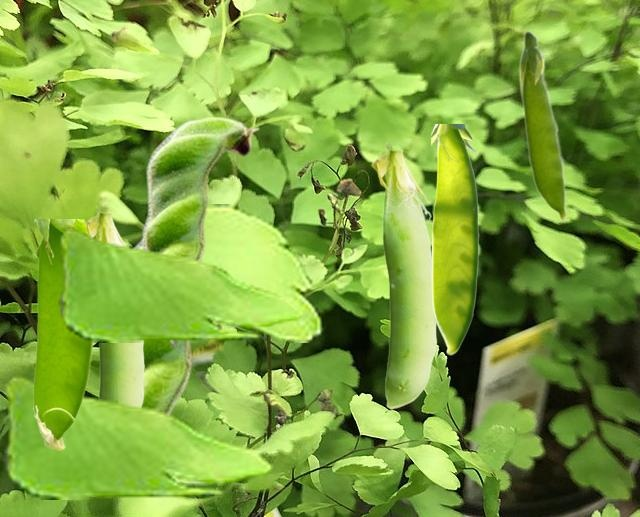pea: (138, 116, 259, 346), (371, 142, 436, 408), (33, 219, 92, 449), (131, 236, 196, 413), (86, 205, 143, 404), (431, 124, 478, 354), (518, 29, 567, 223)
